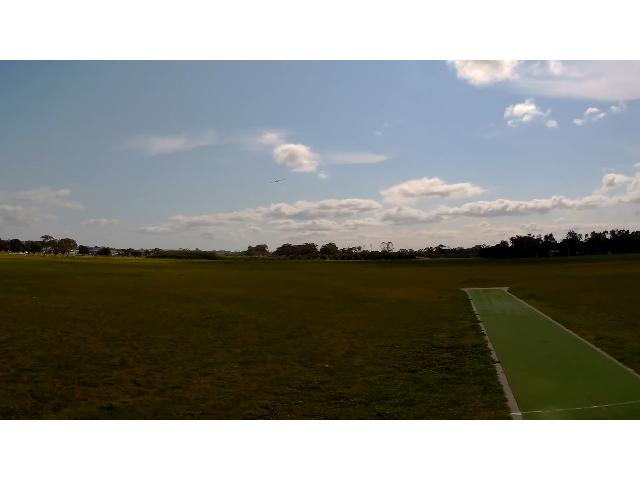Anti-Drone: (270, 179, 286, 183)
